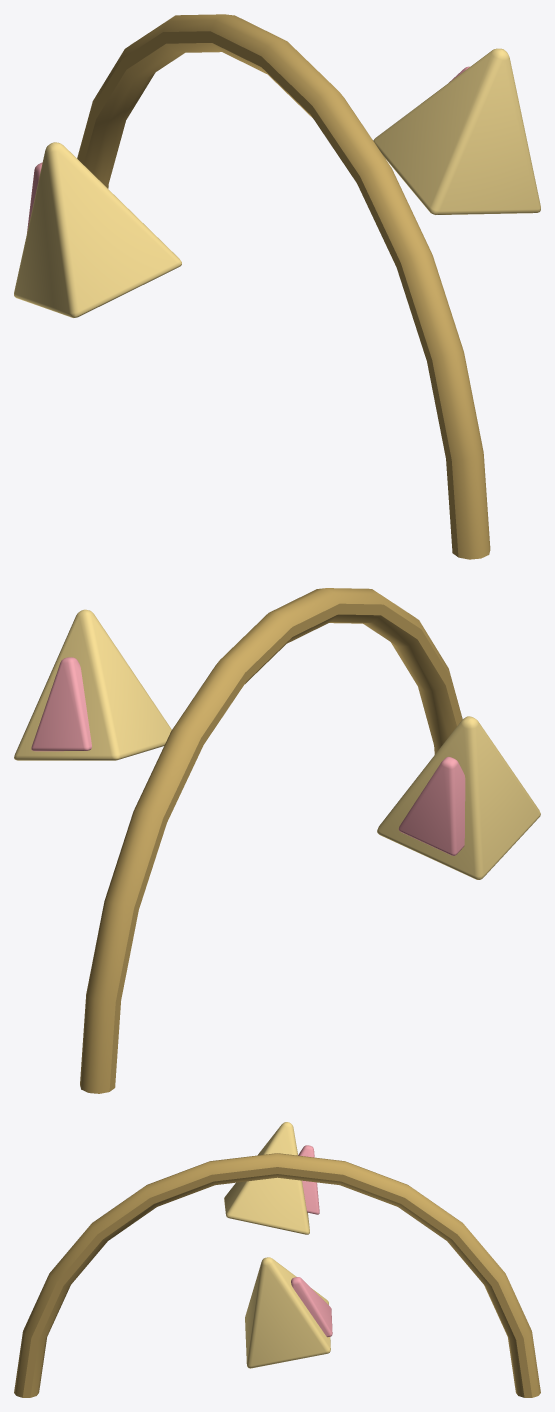
Rendered from Acc_CatEars.fbx.
3 views of the same model, one above another, from view 1: azimuth 30°, elevation 25°; view 2: azimuth 150°, elevation 25°; view 3: azimuth 270°, elevation 25° (orthographic). The views are drawn at different scales.
Visible parts, largest first — view 1: CatEar_Band, CatEar, CatEar.001; view 2: CatEar_Band, CatEar.001, CatEar, CatEar_Inner.001, CatEar_Inner; view 3: CatEar_Band, CatEar, CatEar.001, CatEar_Inner, CatEar_Inner.001.
Boxes of the visible parts, x1,y1,x2,y2 form: CatEar_Band: [77, 14, 490, 559]; CatEar: [373, 48, 540, 214]; CatEar.001: [14, 142, 181, 317]; CatEar_Band: [80, 588, 462, 1093]; CatEar.001: [377, 716, 540, 879]; CatEar: [14, 609, 171, 760]; CatEar_Inner.001: [398, 756, 465, 855]; CatEar_Inner: [31, 657, 91, 751]; CatEar_Band: [14, 1153, 540, 1397]; CatEar: [245, 1257, 330, 1368]; CatEar.001: [224, 1122, 309, 1234]; CatEar_Inner: [291, 1277, 332, 1337]; CatEar_Inner.001: [298, 1145, 319, 1214].
Bounding box in the file's own units: 58.37 × 42 × 84.
